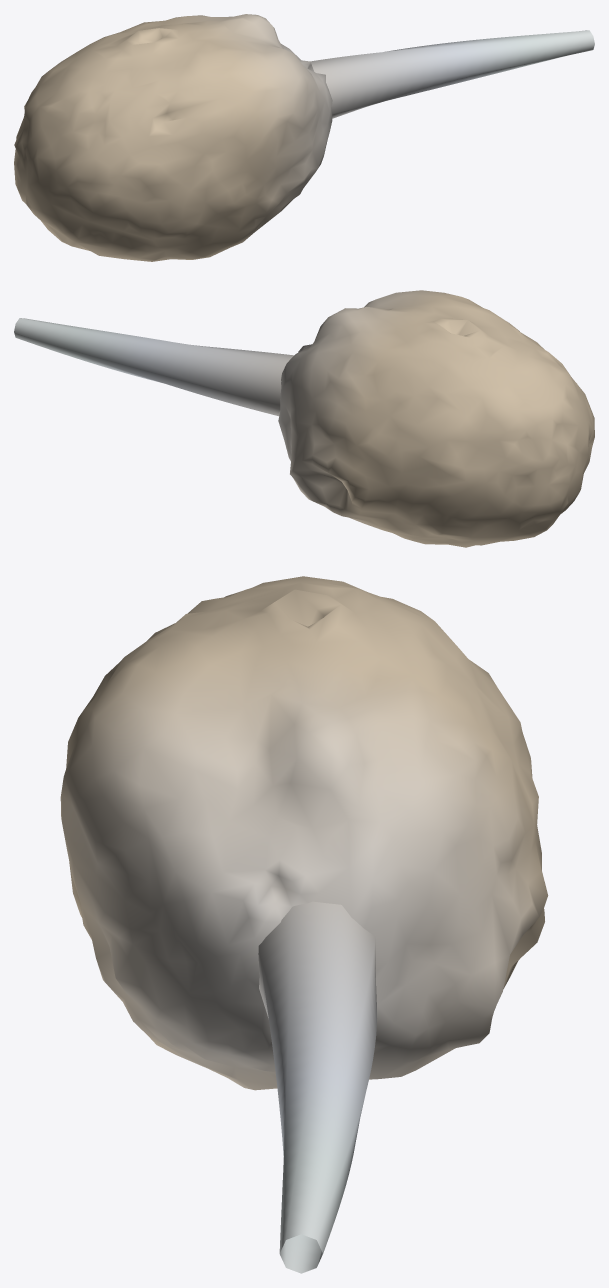
The model's file is asteroid_comet.glb.
3 views of the same model, one above another, from view 1: azimuth 30°, elevation 25°; view 2: azimuth 150°, elevation 25°; view 3: azimuth 270°, elevation 25° (orthographic). The views are drawn at different scales.
Parts seen in each view (by area): view 1: VR_Rock_Comet; view 2: VR_Rock_Comet; view 3: VR_Rock_Comet.
Part boxes in pixels (x1=…): VR_Rock_Comet: x1=14, y1=14, x2=594, y2=261; VR_Rock_Comet: x1=14, y1=290, x2=594, y2=547; VR_Rock_Comet: x1=60, y1=576, x2=548, y2=1273.
Bounding box in the file's own units: 2.68 × 0.9715 × 1.01.
